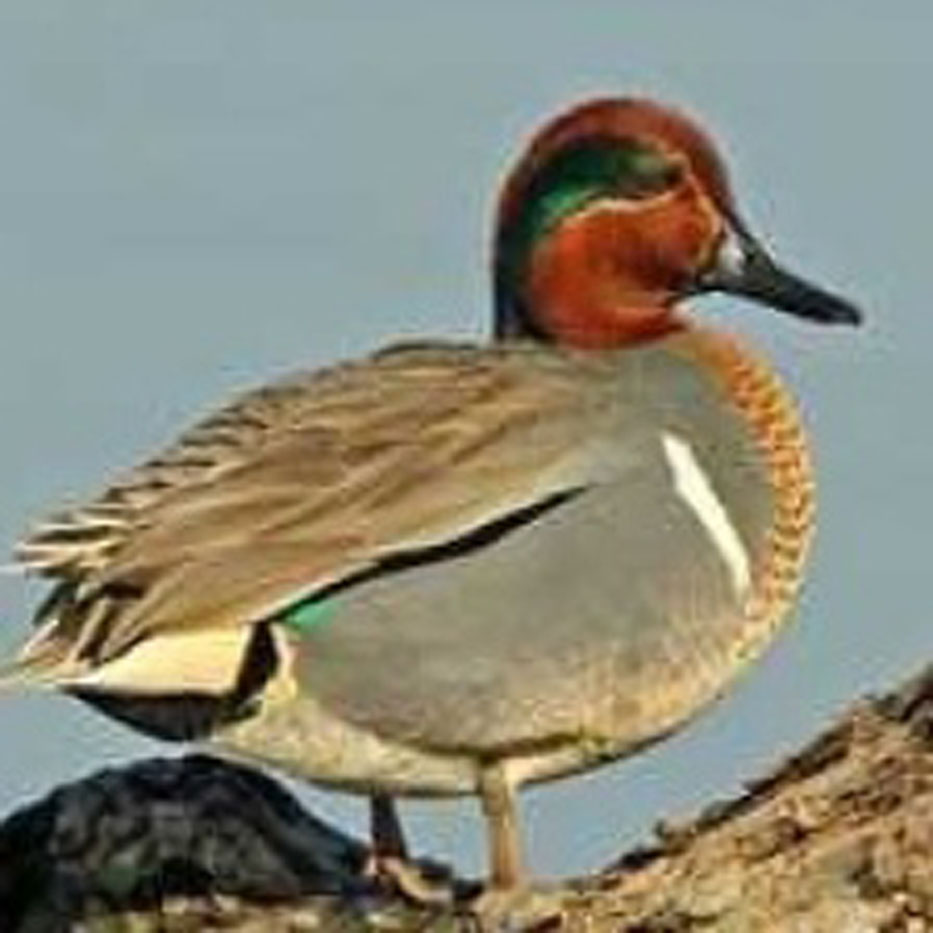Mencari Makan di Lumpur: (711, 221, 871, 341)
